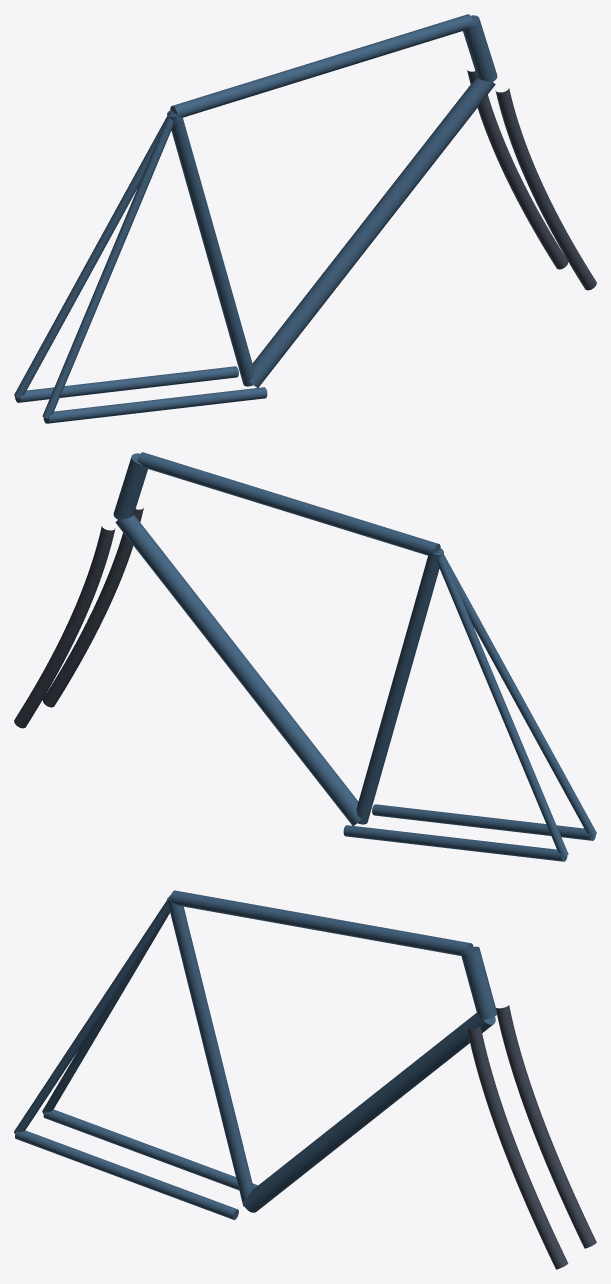
The model's file is dosnoventa-01-bcn-m.glb.
3 views of the same model, one above another, from view 1: azimuth 30°, elevation 25°; view 2: azimuth 150°, elevation 25°; view 3: azimuth 330°, elevation 25° (orthographic).
Visible parts, largest first — view 1: paint_down, paint_top, paint_seat, fork_0.045, paint_seatstay_0.045, fork_-0.045, paint_seatstay_-0.045, paint_chainstay_0.045, paint_chainstay_-0.045, paint_head; view 2: paint_down, paint_top, paint_seat, fork_-0.045, paint_seatstay_-0.045, fork_0.045, paint_seatstay_0.045, paint_chainstay_-0.045, paint_chainstay_0.045, paint_head; view 3: paint_down, paint_seat, paint_top, fork_-0.045, fork_0.045, paint_chainstay_0.045, paint_seatstay_0.045, paint_chainstay_-0.045, paint_seatstay_-0.045, paint_head.
Part boxes in pixels (x1,y1,x2,y2): paint_down: (249,77,495,387); paint_top: (170,14,473,117); paint_seat: (167,110,254,386); fork_0.045: (495,88,596,290); paint_seatstay_0.045: (42,111,175,419); fork_-0.045: (467,70,568,269); paint_seatstay_-0.045: (14,110,173,398); paint_chainstay_0.045: (43,387,267,423); paint_chainstay_-0.045: (15,366,238,402); paint_head: (463,15,497,81); paint_down: (115,515,361,825); paint_top: (137,452,440,555); paint_seat: (356,548,443,824); fork_-0.045: (14,526,115,728); paint_seatstay_-0.045: (435,549,568,857); fork_0.045: (42,508,143,707); paint_seatstay_0.045: (437,548,596,836); paint_chainstay_-0.045: (343,825,567,861); paint_chainstay_0.045: (372,804,595,840); paint_head: (113,453,147,519); paint_down: (242,1013,495,1212); paint_seat: (167,897,253,1206); paint_top: (170,890,473,955); fork_-0.045: (496,1005,596,1248); fork_0.045: (467,1026,568,1269); paint_chainstay_0.045: (15,1130,238,1219); paint_seatstay_0.045: (14,895,170,1133); paint_chainstay_-0.045: (43,1109,257,1190); paint_seatstay_-0.045: (42,912,169,1113); paint_head: (461,946,497,1019).
Size of the model in its own units: 1.01 by 0.5575 by 0.112.
